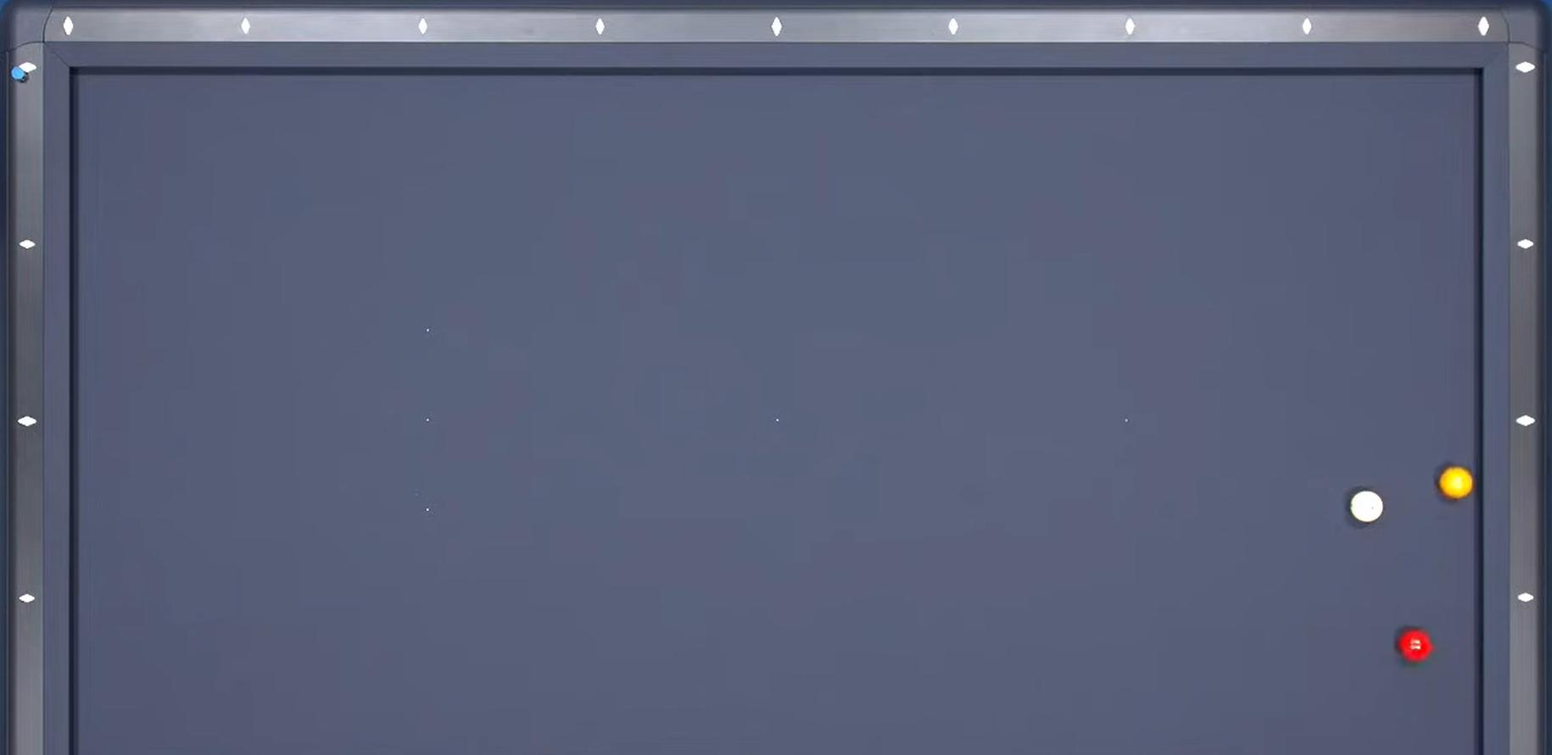red ball: (1396, 623, 1437, 667)
white ball: (1348, 484, 1386, 525)
yellow ball: (1437, 461, 1476, 502)
